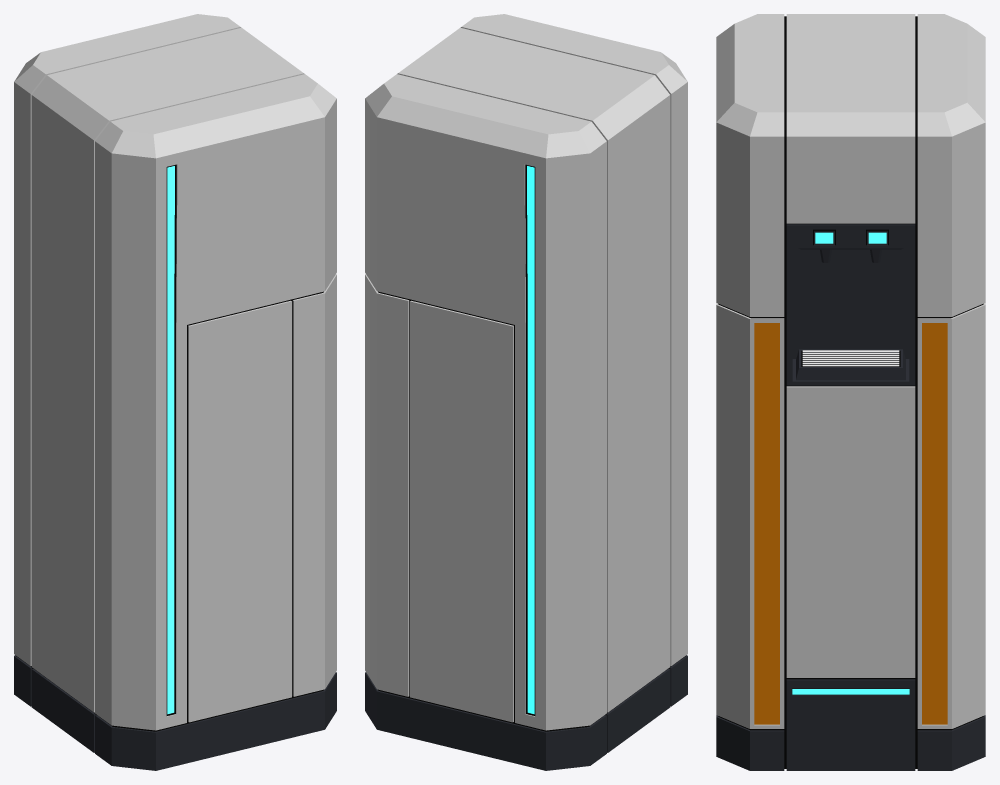
The model's file is water_dispenser.glb.
The picture shows the model from 3 angles, left to right: view 1: azimuth 30°, elevation 25°; view 2: azimuth 150°, elevation 25°; view 3: azimuth 270°, elevation 25°; orthographic projection. The views are drawn at different scales.
Visible parts, largest first — view 1: SM_Water_Dispenser; view 2: SM_Water_Dispenser; view 3: SM_Water_Dispenser.
Part boxes in pixels (box(x1,y1,x2,y2)): SM_Water_Dispenser: box(14, 14, 336, 770); SM_Water_Dispenser: box(365, 14, 687, 770); SM_Water_Dispenser: box(716, 14, 985, 770).
Size of the model in its own units: 0.45 by 1.2 by 0.45.
